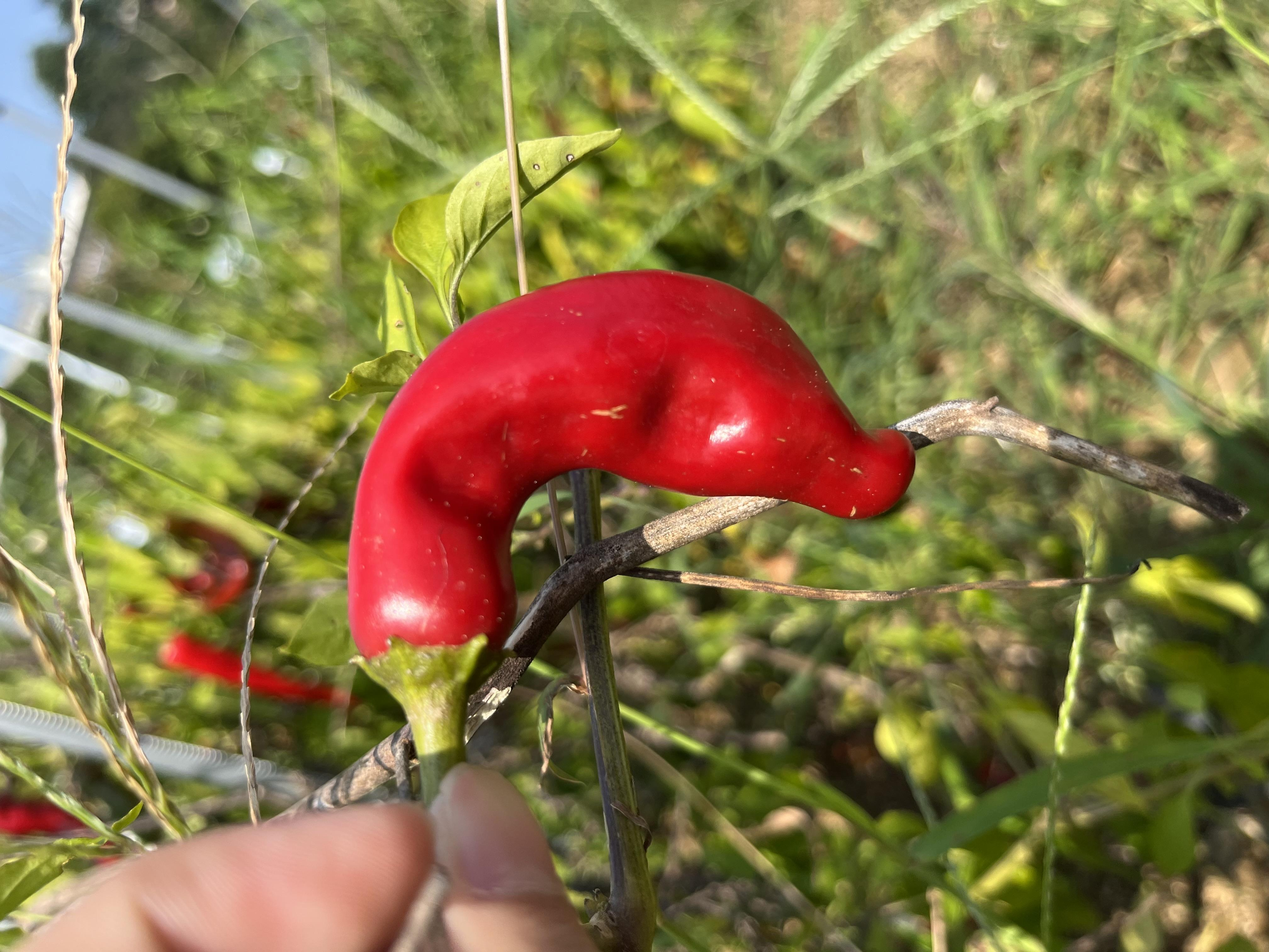Buah Cabai Sehat: (340, 246, 916, 692)
